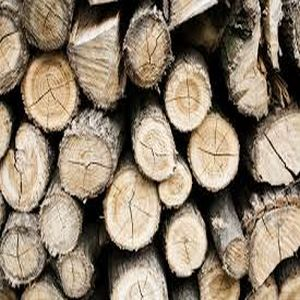log: (99, 165, 162, 248), (65, 19, 122, 109), (22, 51, 81, 133), (244, 196, 300, 279), (184, 112, 242, 190), (248, 106, 300, 187), (1, 126, 49, 213), (58, 128, 115, 198), (124, 10, 172, 92), (160, 57, 212, 131), (129, 119, 180, 185), (160, 207, 207, 275), (36, 193, 83, 255), (21, 1, 74, 54), (105, 260, 170, 300), (1, 227, 44, 285), (53, 252, 94, 297), (195, 262, 241, 300), (156, 162, 193, 209), (223, 234, 250, 280)
